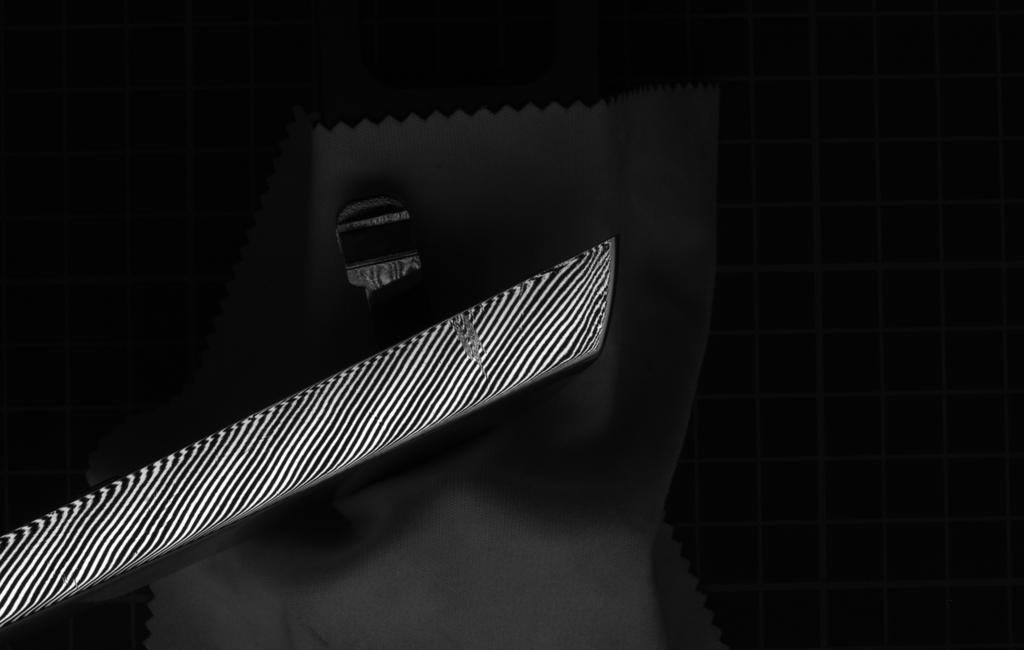Pitting: (448, 311, 503, 393)
